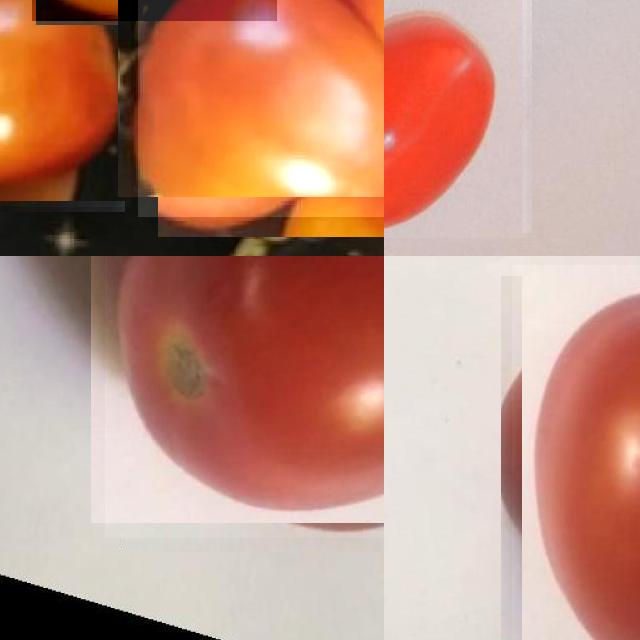Fresh Tomato: (105, 256, 384, 537), (138, 0, 384, 217), (512, 265, 640, 640), (384, 0, 527, 238), (0, 0, 130, 206)
